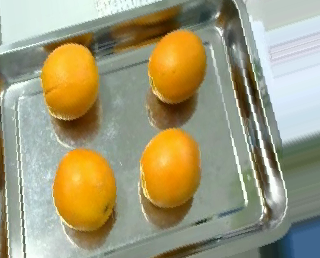Orange: (51, 148, 116, 230), (139, 128, 202, 208), (40, 41, 99, 120), (148, 27, 207, 105)
